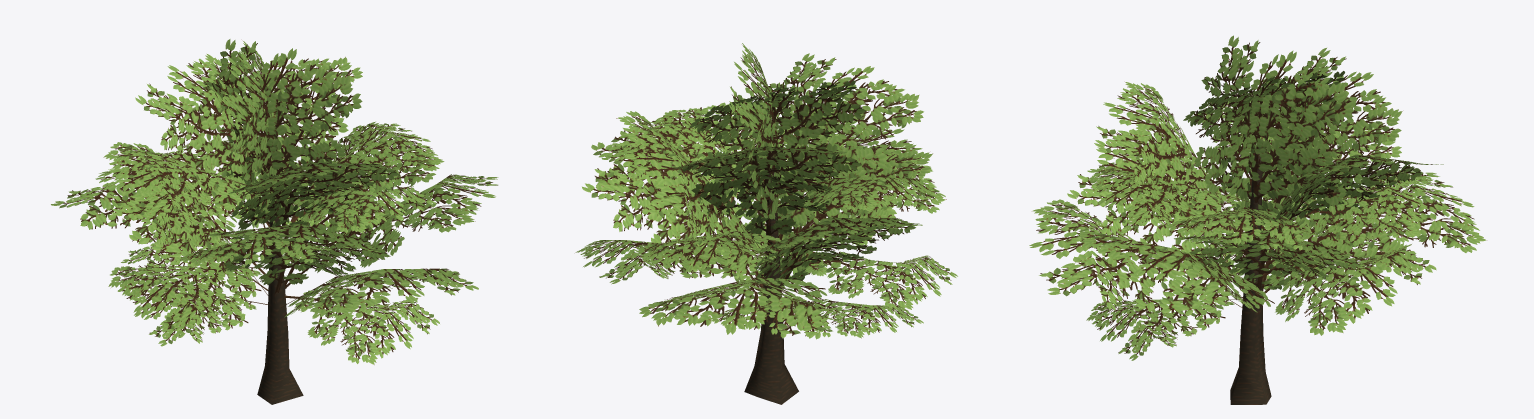
Rendered from Cherry01.fbx.
The picture shows the model from 3 angles, left to right: view 1: azimuth 30°, elevation 25°; view 2: azimuth 150°, elevation 25°; view 3: azimuth 270°, elevation 25°; orthographic projection.
Parts seen in each view (by area): view 1: Cherry01; view 2: Cherry01; view 3: Cherry01.
Part boxes in pixels (x1=…): Cherry01: x1=51, y1=39, x2=498, y2=404; Cherry01: x1=575, y1=43, x2=957, y2=404; Cherry01: x1=1029, y1=35, x2=1486, y2=404.
Bounding box in the file's own units: 502 × 388 × 533.
